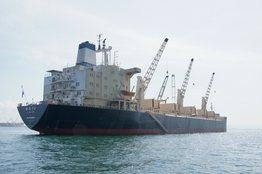Cargoship: (18, 36, 227, 135)
